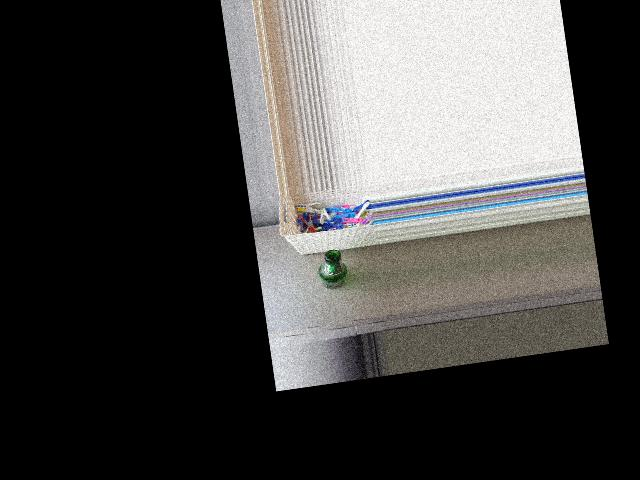beer: (315, 248, 350, 291)
